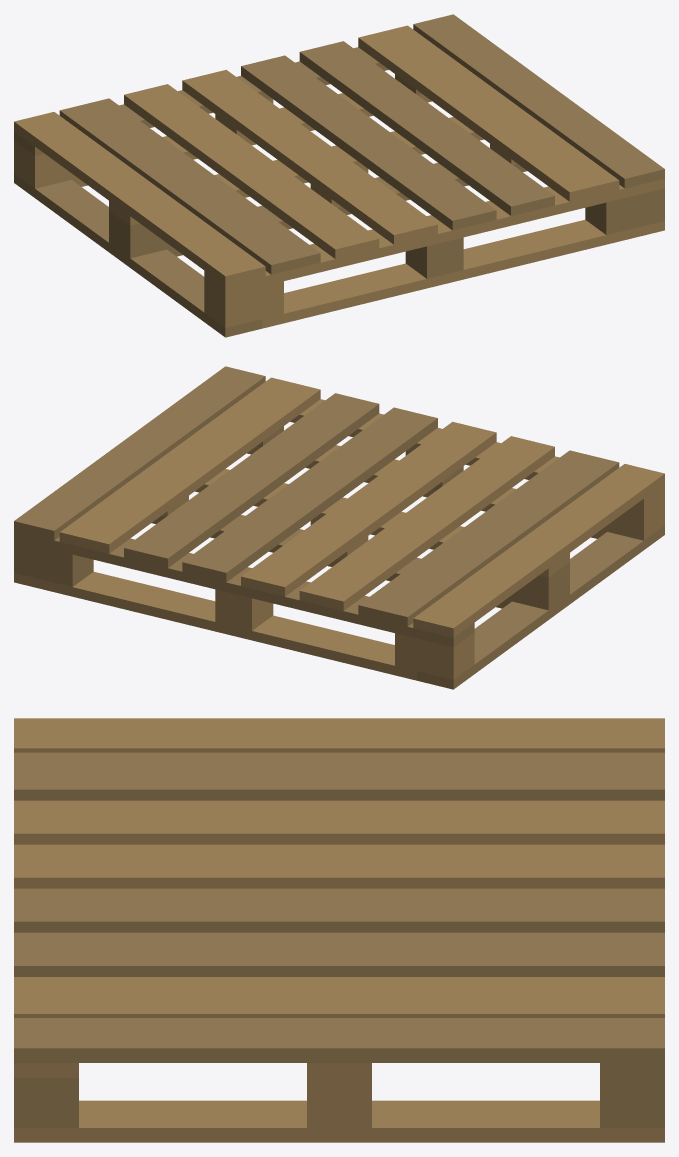
Rendered from SM_Props_Interior_Generic_Warehouse_Pallet.fbx.
3 renders of one model, top to bottom at view 1: azimuth 30°, elevation 25°; view 2: azimuth 150°, elevation 25°; view 3: azimuth 270°, elevation 25°, orthographic. The views are drawn at different scales.
Parts seen in each view (by area): view 1: SM_Props_Interior_Generic_Warehouse_Pallet; view 2: SM_Props_Interior_Generic_Warehouse_Pallet; view 3: SM_Props_Interior_Generic_Warehouse_Pallet.
Part boxes in pixels (x1,y1,x2,y2): SM_Props_Interior_Generic_Warehouse_Pallet: (14,14,664,337); SM_Props_Interior_Generic_Warehouse_Pallet: (14,366,664,689); SM_Props_Interior_Generic_Warehouse_Pallet: (14,718,664,1142).
Bounding box in the file's own units: 120 × 16 × 100.
